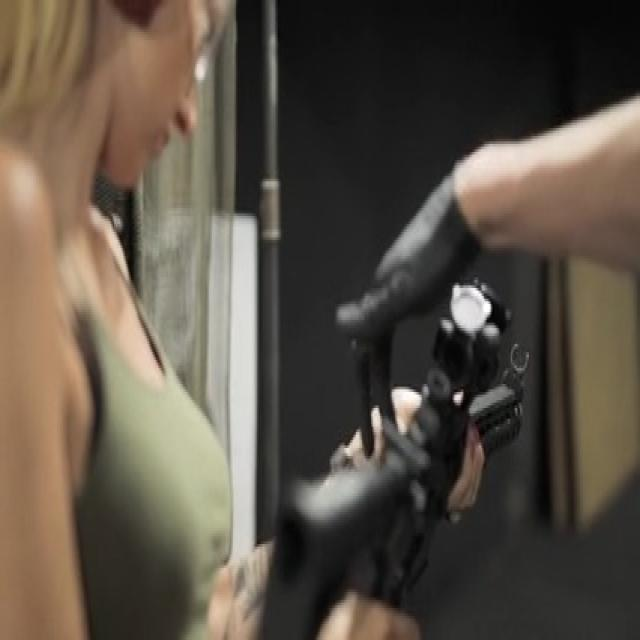Gun_Holder: (219, 253, 640, 640)
Person: (0, 0, 418, 640)
